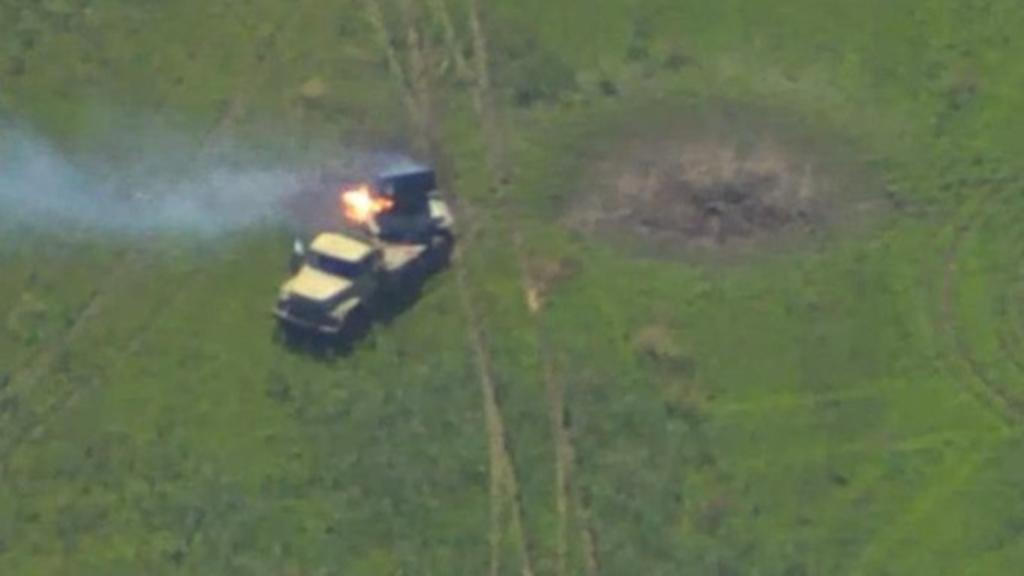MLRS: (266, 158, 458, 352)
